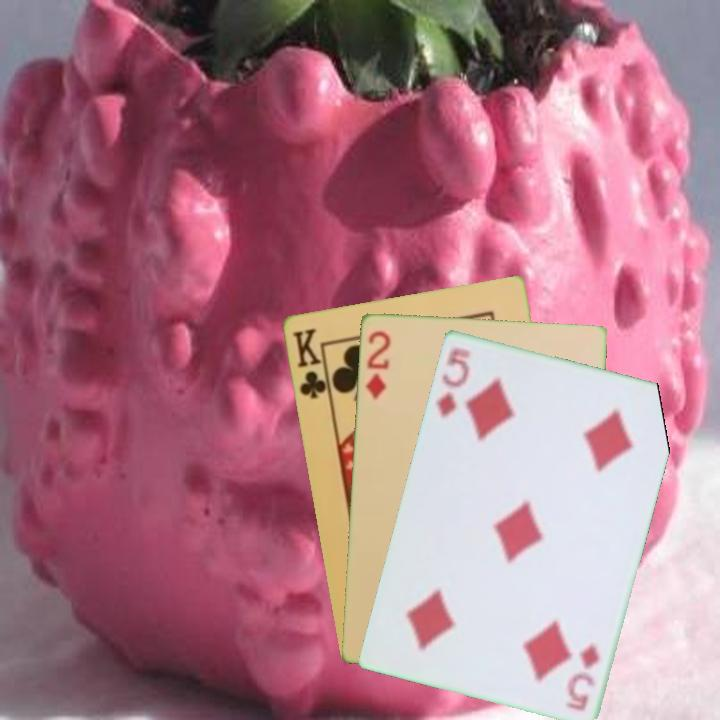2d: (362, 327, 393, 401)
5d: (432, 342, 473, 421), (562, 638, 602, 713)
Kc: (288, 324, 332, 403)
